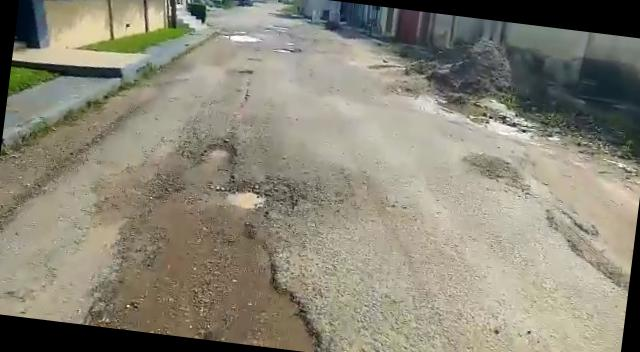pothole: (228, 170, 316, 217), (202, 139, 236, 165), (220, 30, 266, 45)
